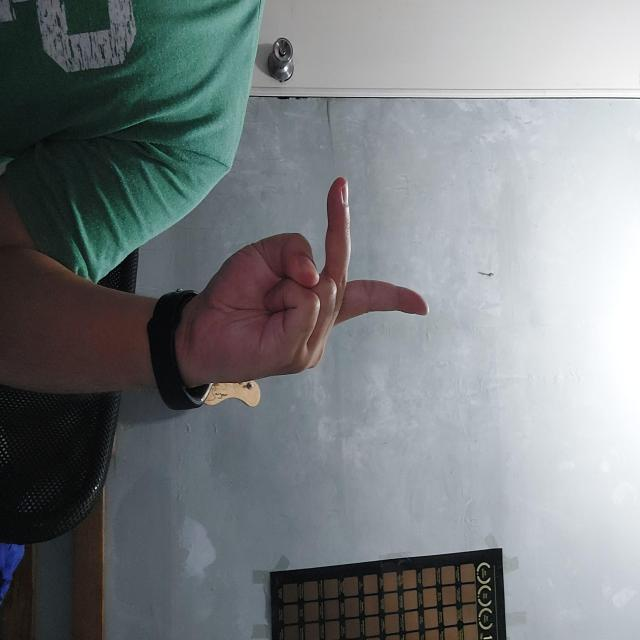K: (177, 206, 388, 458)
